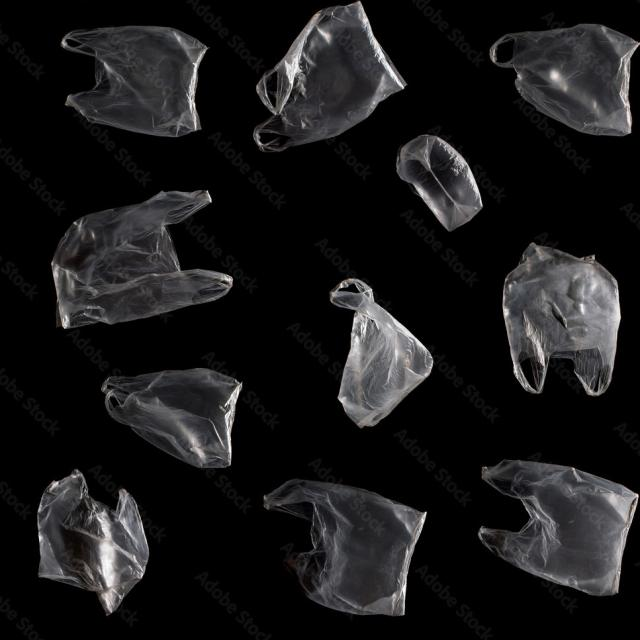Single-layer Plastic: (51, 190, 232, 329), (254, 1, 406, 152), (264, 479, 426, 616), (479, 460, 638, 595), (502, 244, 620, 395), (491, 24, 640, 136), (38, 470, 149, 614), (61, 26, 206, 136), (330, 279, 432, 428), (101, 369, 241, 468), (396, 135, 481, 231)
